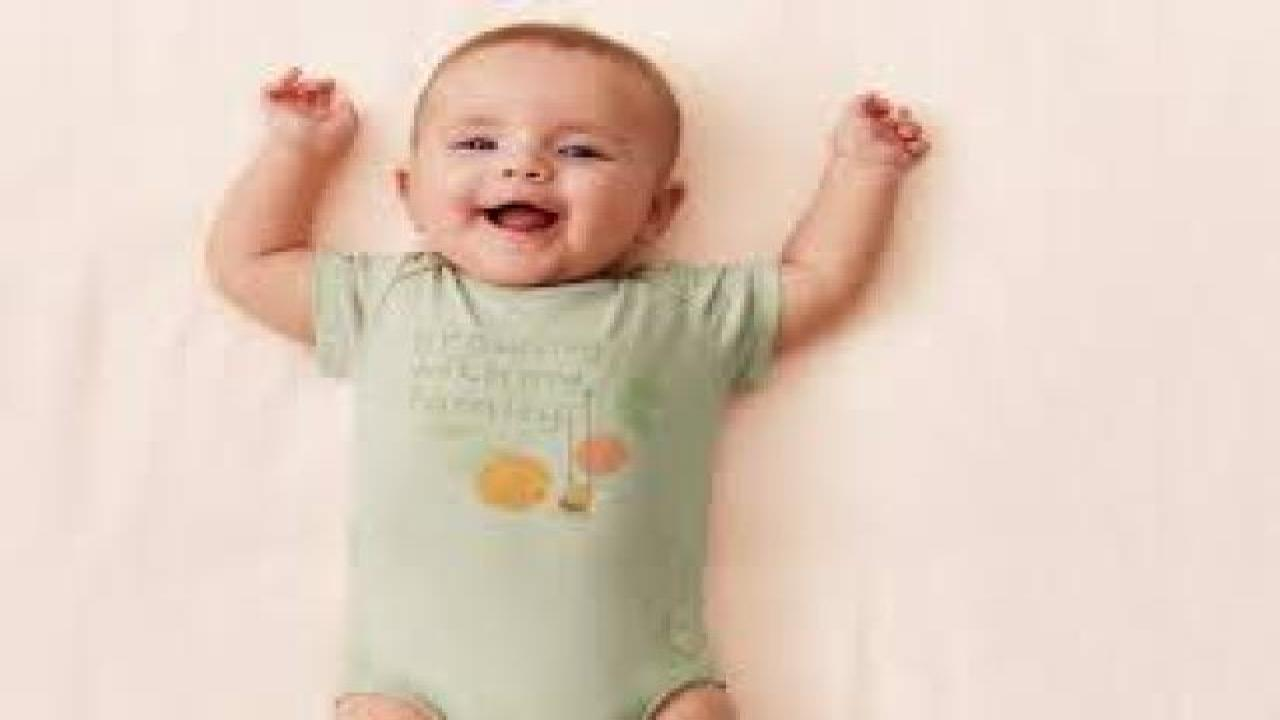hand: (254, 66, 358, 144), (840, 91, 937, 171)
